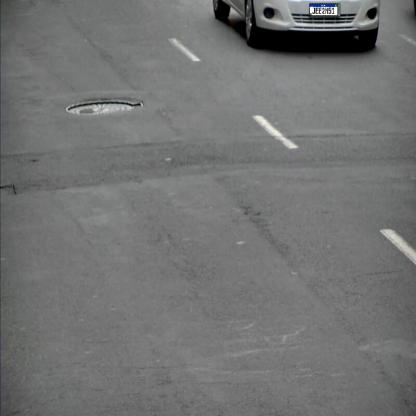PlacaM: (309, 3, 338, 16)
